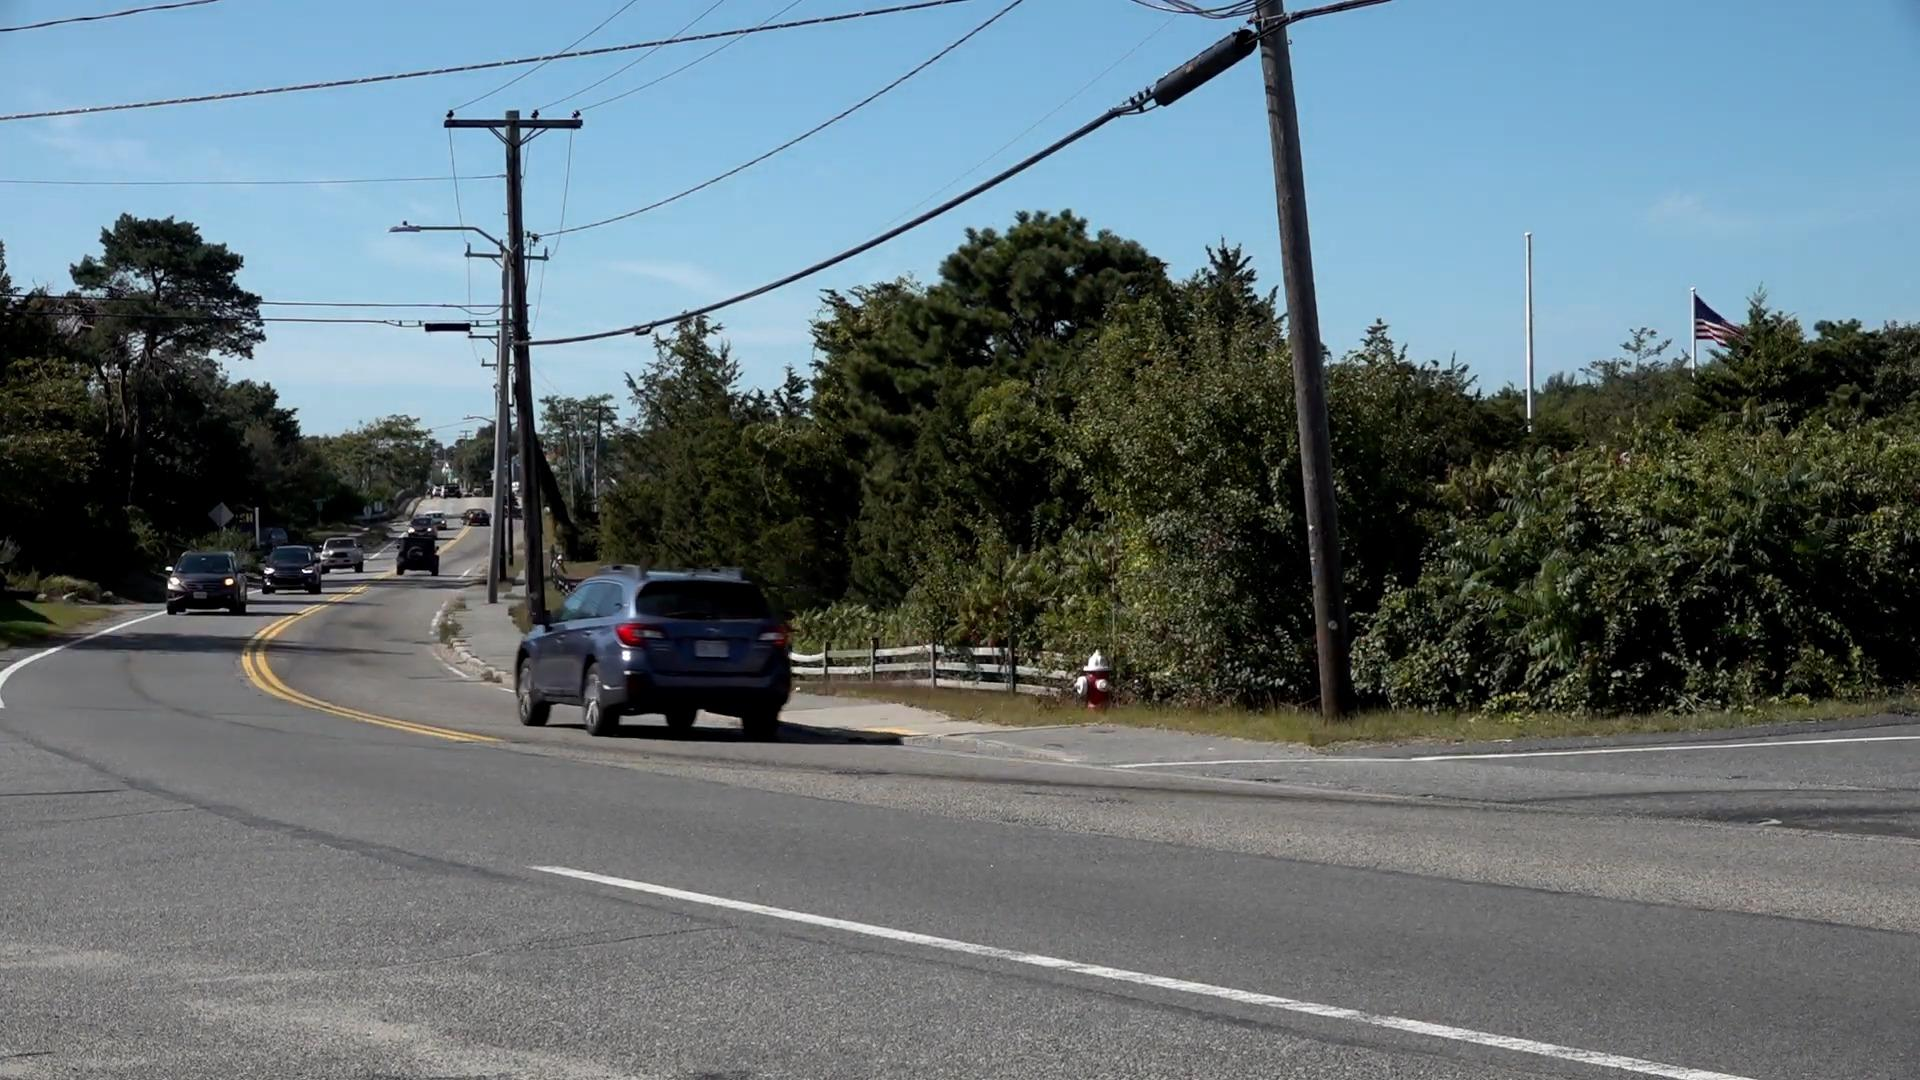suv: (512, 567, 798, 740), (161, 551, 248, 613), (262, 545, 324, 593), (397, 534, 444, 580), (324, 541, 369, 568)
